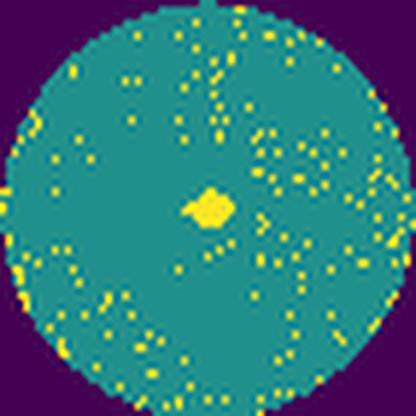Center: (181, 186, 237, 228)
